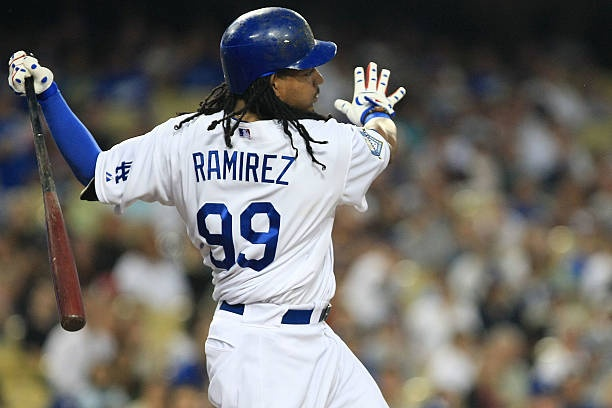bita: (21, 72, 86, 328)
